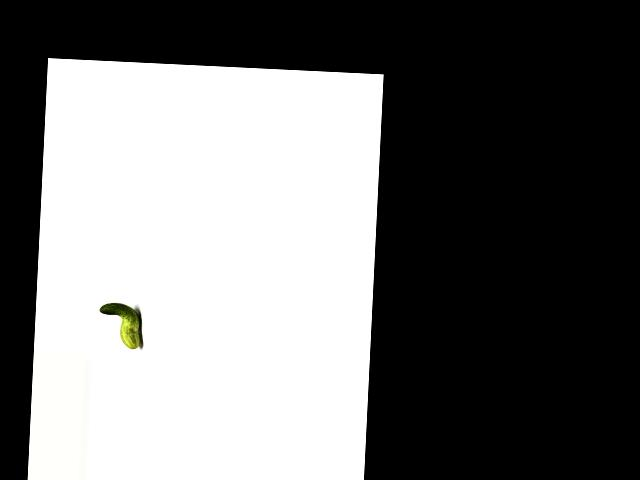cucumber: (98, 301, 142, 349)
